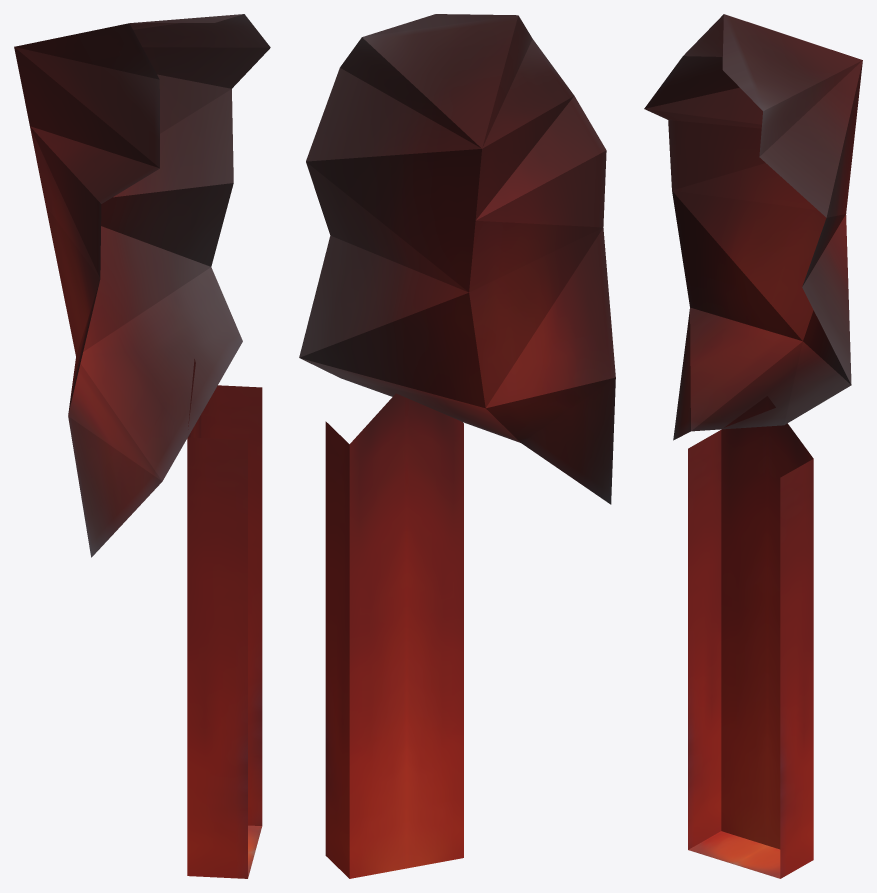
File: Area03_10.fbx
3 renders of one model, left to right at view 1: azimuth 30°, elevation 25°; view 2: azimuth 150°, elevation 25°; view 3: azimuth 270°, elevation 25°, orthographic. The views are drawn at different scales.
Parts seen in each view (by area): view 1: Area03_10; view 2: Area03_10; view 3: Area03_10.
Boxes of the visible parts, left/top/right/bottom form: Area03_10: left=14, top=14, right=270, bottom=878; Area03_10: left=299, top=14, right=615, bottom=878; Area03_10: left=644, top=14, right=862, bottom=878.
Size of the model in its own units: 592 by 2011 by 504.
